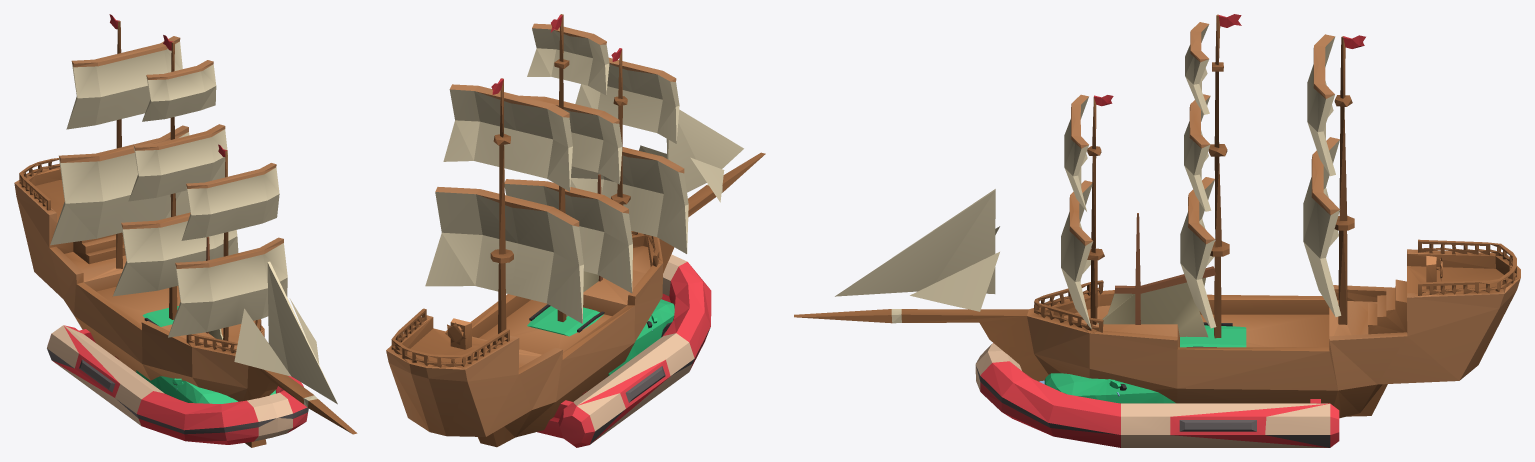
The model's file is r3f-traffic.glb.
The picture shows the model from 3 angles, left to right: view 1: azimuth 30°, elevation 25°; view 2: azimuth 150°, elevation 25°; view 3: azimuth 270°, elevation 25°; orthographic projection. The views are drawn at different scales.
Parts seen in each view (by area): view 1: boat-ship, boat-life, car-suv; view 2: boat-ship, boat-life, car-suv; view 3: boat-ship, boat-life, boat-sail, car-suv.
Part boxes in pixels (x1=…): boat-ship: x1=14, y1=14, x2=357, y2=447; boat-life: x1=47, y1=325, x2=308, y2=444; car-suv: x1=136, y1=306, x2=275, y2=403; boat-ship: x1=386, y1=14, x2=765, y2=447; boat-life: x1=537, y1=254, x2=711, y2=447; car-suv: x1=527, y1=299, x2=674, y2=375; boat-ship: x1=794, y1=14, x2=1520, y2=418; boat-life: x1=975, y1=343, x2=1339, y2=447; boat-sail: x1=1097, y1=213, x2=1216, y2=337; car-suv: x1=1044, y1=322, x2=1246, y2=403.
Bounding box in the file's own units: 4.34 × 9 × 14.89.
